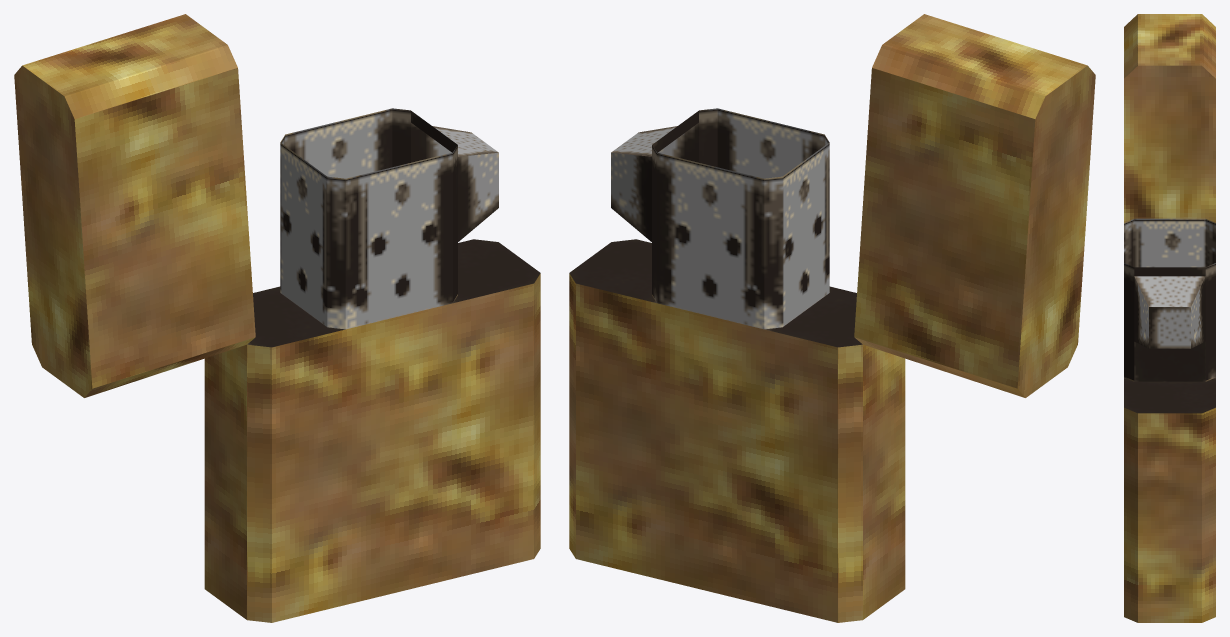
Rendered from lighter.fbx.
The picture shows the model from 3 angles, left to right: view 1: azimuth 30°, elevation 25°; view 2: azimuth 150°, elevation 25°; view 3: azimuth 270°, elevation 25°; orthographic projection. The views are drawn at different scales.
Parts seen in each view (by area): view 1: lighter-opened; view 2: lighter-opened; view 3: lighter-opened.
Boxes of the visible parts, x1,y1,x2,y2 form: lighter-opened: [14, 14, 540, 622]; lighter-opened: [569, 14, 1095, 622]; lighter-opened: [1124, 14, 1215, 622].
Size of the model in its own units: 18.06 by 21.01 by 3.97.
Materials: 2 (2 with a texture image).
